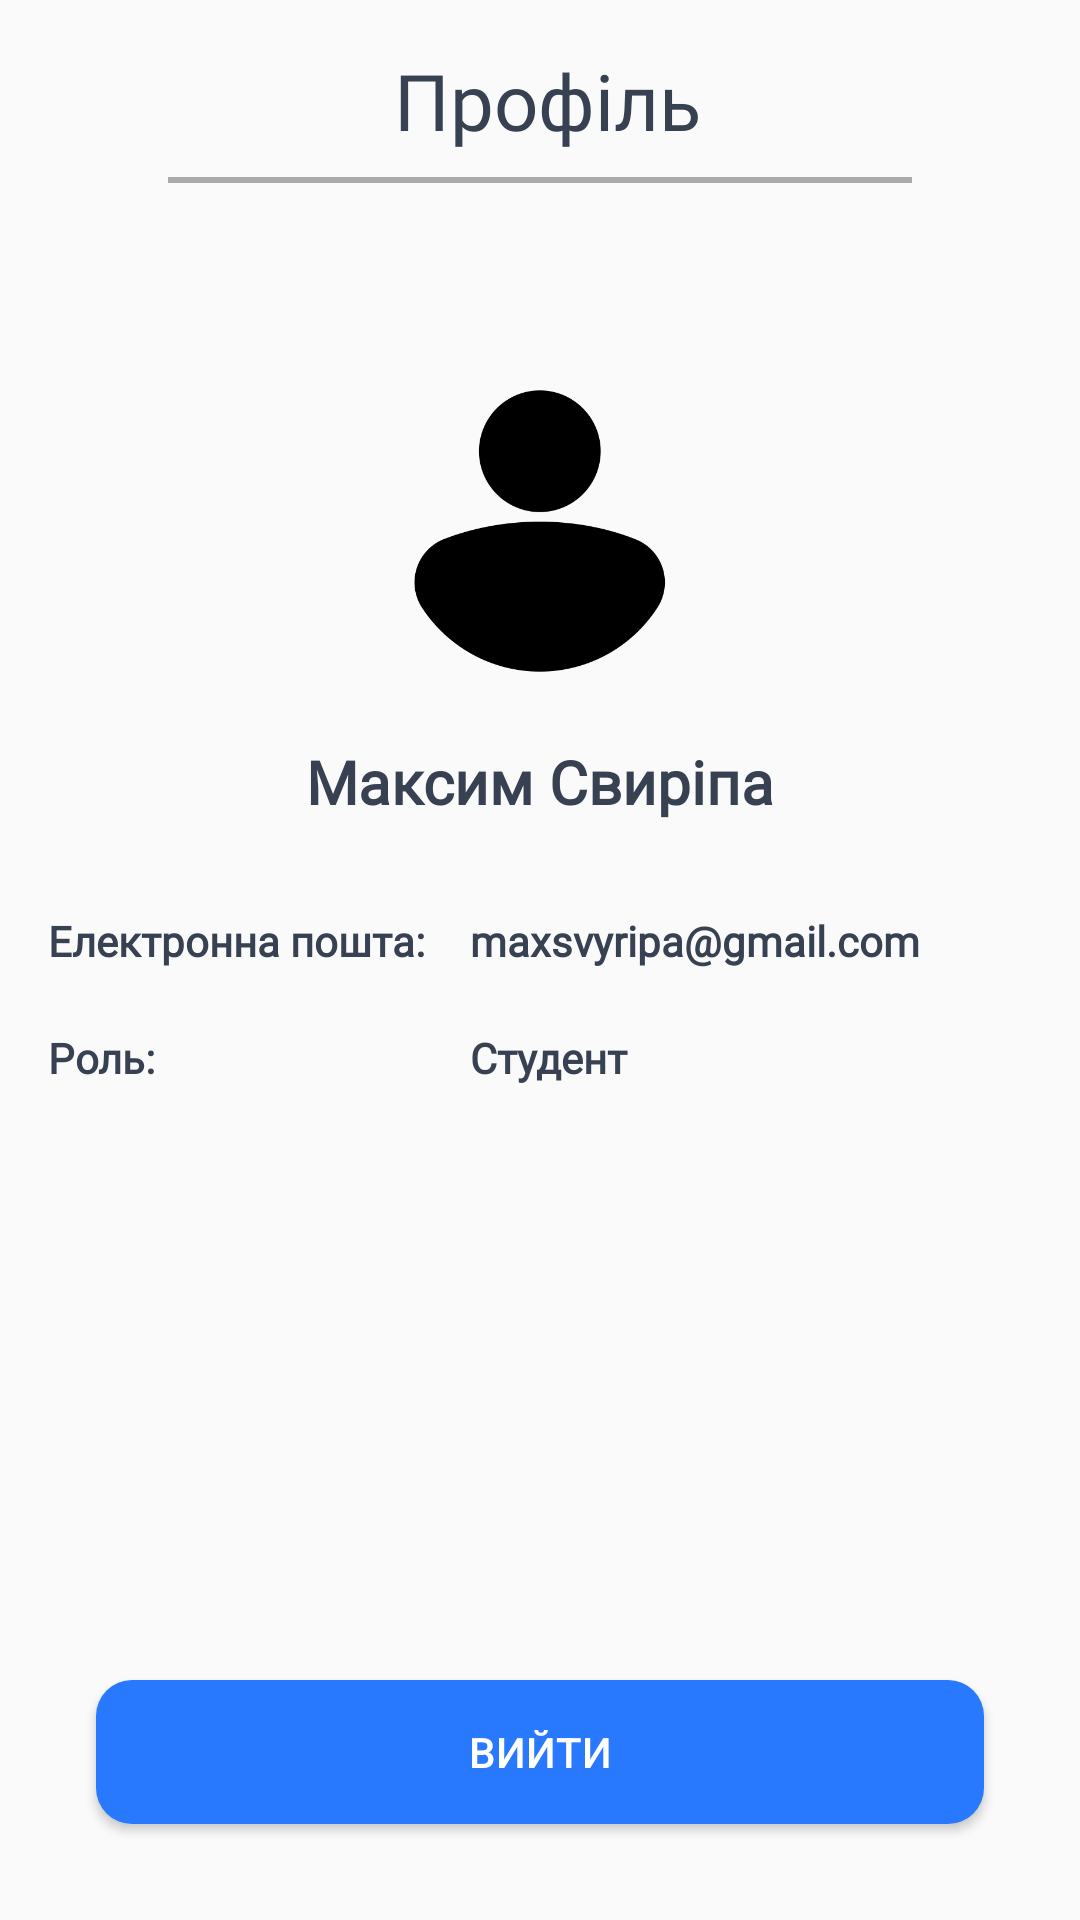

Named icons in this screenshot (1080w x 1920h) and their bounding boxes, [x1=x1, y1=y1, x2=x2, y2=y2]:
Profile: [x1=414, y1=390, x2=665, y2=672]
